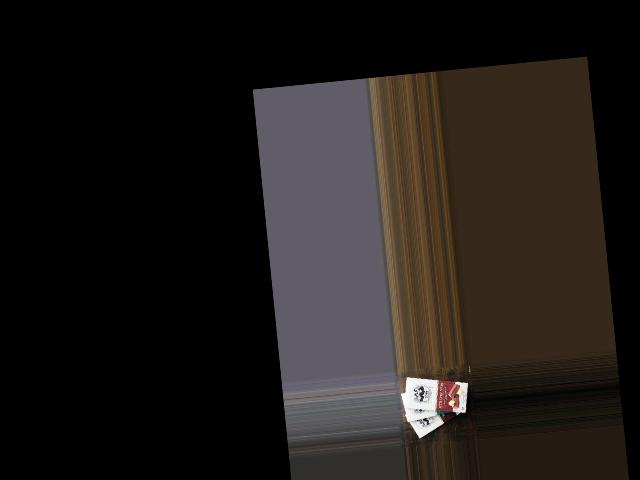chocolate: (401, 392, 472, 440)
